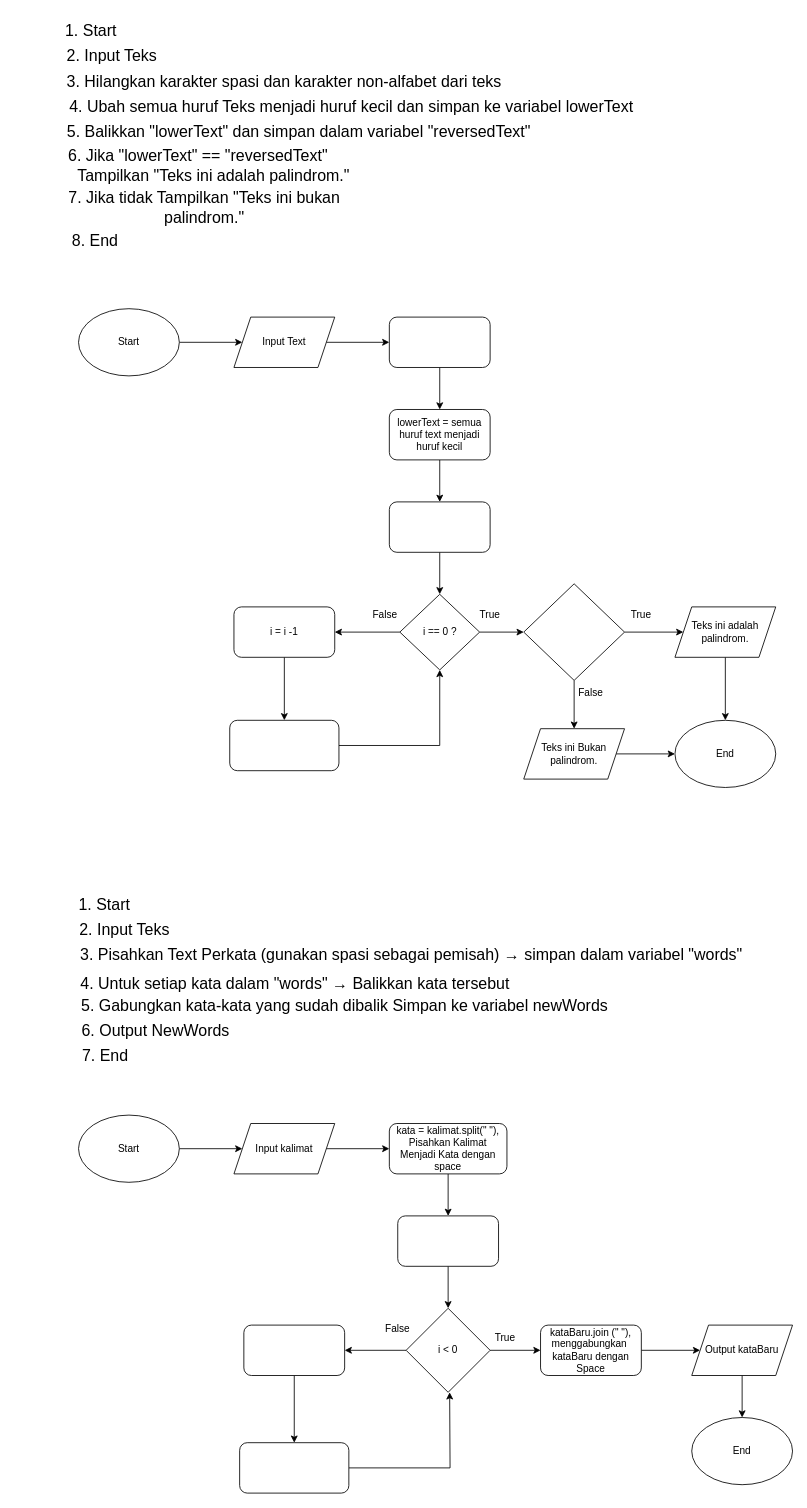
Some shapes in this 807 by 1508 pixel diagram are drawn without their labels. The box of each missing label's shape, as (x1, y1, x2, y2) in pixels:
Hilangkan spasi dan karakter non- alfabet: (388, 316, 490, 368)
i = i - 1: (243, 1324, 345, 1376)
i = kata.length: (397, 1215, 499, 1266)
i = lowerText.length: (388, 501, 490, 552)
kataBaru = kataBaru + kata[i]: (239, 1442, 349, 1493)
lowerText === reversedText: (523, 583, 625, 680)
reversedText = reversedText + lowertext[i]: (229, 719, 339, 771)
